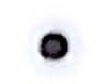cancer: (25, 16, 89, 77)
